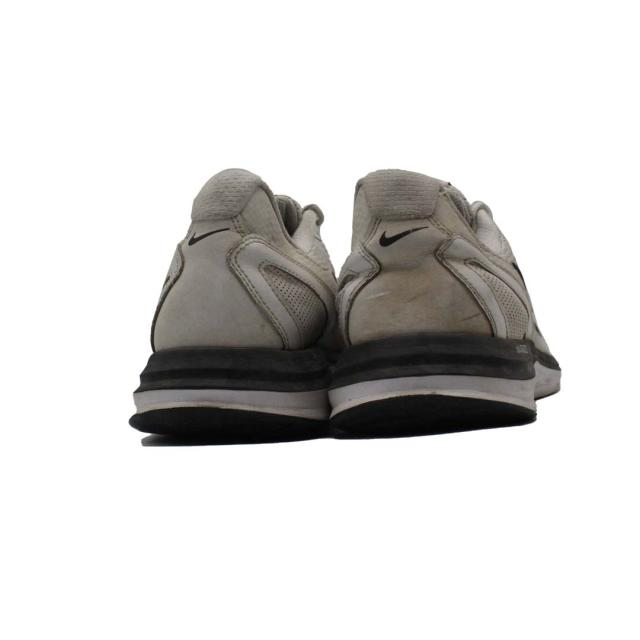heel: (336, 160, 525, 339), (146, 157, 316, 352)
midsole: (132, 352, 561, 433)
